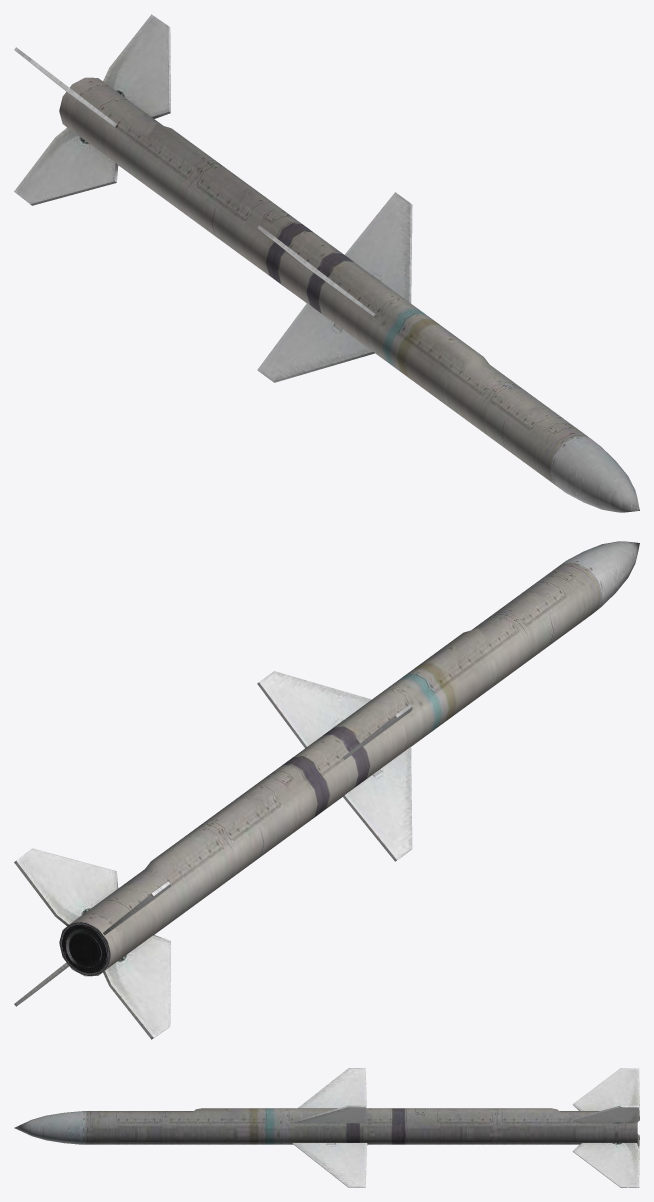
Rendered from J-15导弹模型.fbx.
The picture shows the model from 3 angles, top to bottom: view 1: azimuth 30°, elevation 25°; view 2: azimuth 150°, elevation 25°; view 3: azimuth 270°, elevation 25°; orthographic projection. The views are drawn at different scales.
Visible parts, largest first — view 1: J-15导弹模型; view 2: J-15导弹模型; view 3: J-15导弹模型.
Boxes of the visible parts, left/top/right/bottom form: J-15导弹模型: left=14, top=14, right=639, bottom=512; J-15导弹模型: left=14, top=541, right=639, bottom=1039; J-15导弹模型: left=14, top=1068, right=639, bottom=1187.
Size of the model in its own units: 66.38 by 66.38 by 457.
